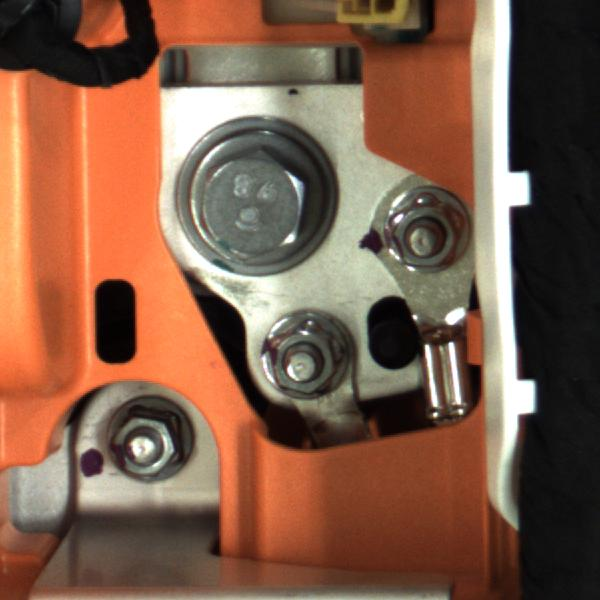nut_b: (172, 114, 333, 274)
screw_s: (91, 400, 223, 493), (372, 192, 473, 284), (254, 312, 357, 400)
